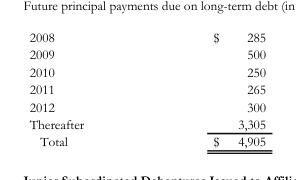table: (28, 29, 265, 148)
table column: (28, 29, 147, 148), (147, 29, 265, 148)
table row: (28, 62, 265, 80), (28, 97, 265, 115), (28, 45, 265, 62), (28, 80, 265, 97), (28, 115, 265, 132), (28, 29, 265, 45), (28, 132, 265, 148)
